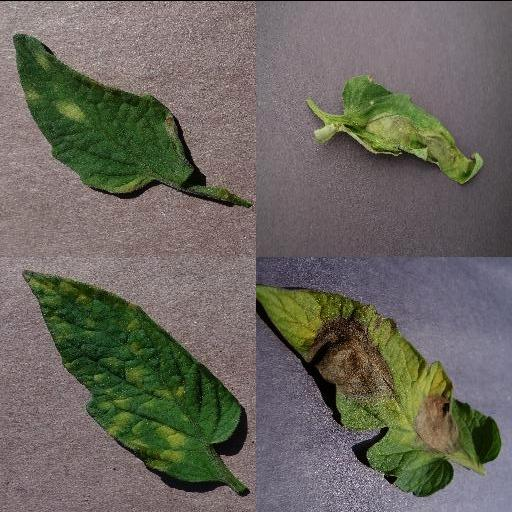Late Blight: (256, 282, 500, 496), (341, 73, 485, 183)
Leaf Mold: (22, 271, 242, 480), (13, 33, 193, 194)
